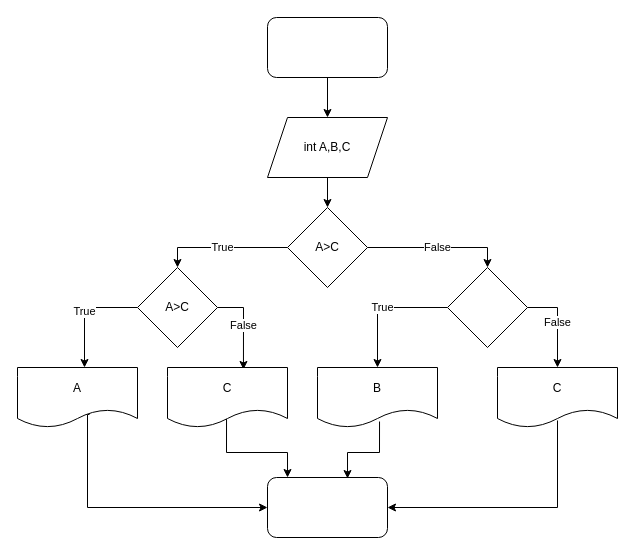
The diagram is 635 pixels wide and 555 high, and some of its shapes have lost their labels. The box of each missing label's shape, as (x1, y1, x2, y2) in pixels:
B>C: (446, 266, 528, 348)
End: (266, 476, 388, 538)
Start: (266, 16, 388, 78)
